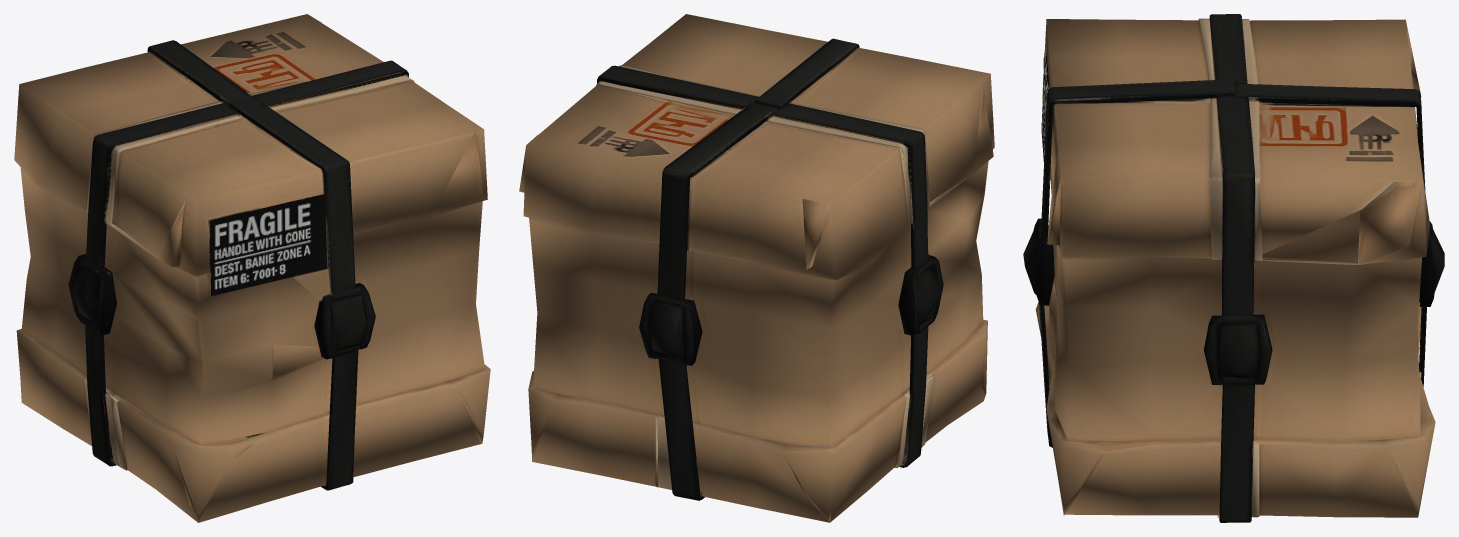
The model's file is shipping box 3d model.glb.
3 views of the same model, side by side, from view 1: azimuth 30°, elevation 25°; view 2: azimuth 150°, elevation 25°; view 3: azimuth 270°, elevation 25° (orthographic). The views are drawn at different scales.
Visible parts, largest first — view 1: tripo_node_27d3585f-1cd1-4cbb-ba49-3c96549da08f; view 2: tripo_node_27d3585f-1cd1-4cbb-ba49-3c96549da08f; view 3: tripo_node_27d3585f-1cd1-4cbb-ba49-3c96549da08f.
Part boxes in pixels (<box>): tripo_node_27d3585f-1cd1-4cbb-ba49-3c96549da08f: <box>14,14,490,522</box>; tripo_node_27d3585f-1cd1-4cbb-ba49-3c96549da08f: <box>519,14,994,522</box>; tripo_node_27d3585f-1cd1-4cbb-ba49-3c96549da08f: <box>1023,14,1444,522</box>.
Bounding box in the file's own units: 0.998 × 0.9238 × 0.9941.
Materials: 1 (1 with a texture image).
